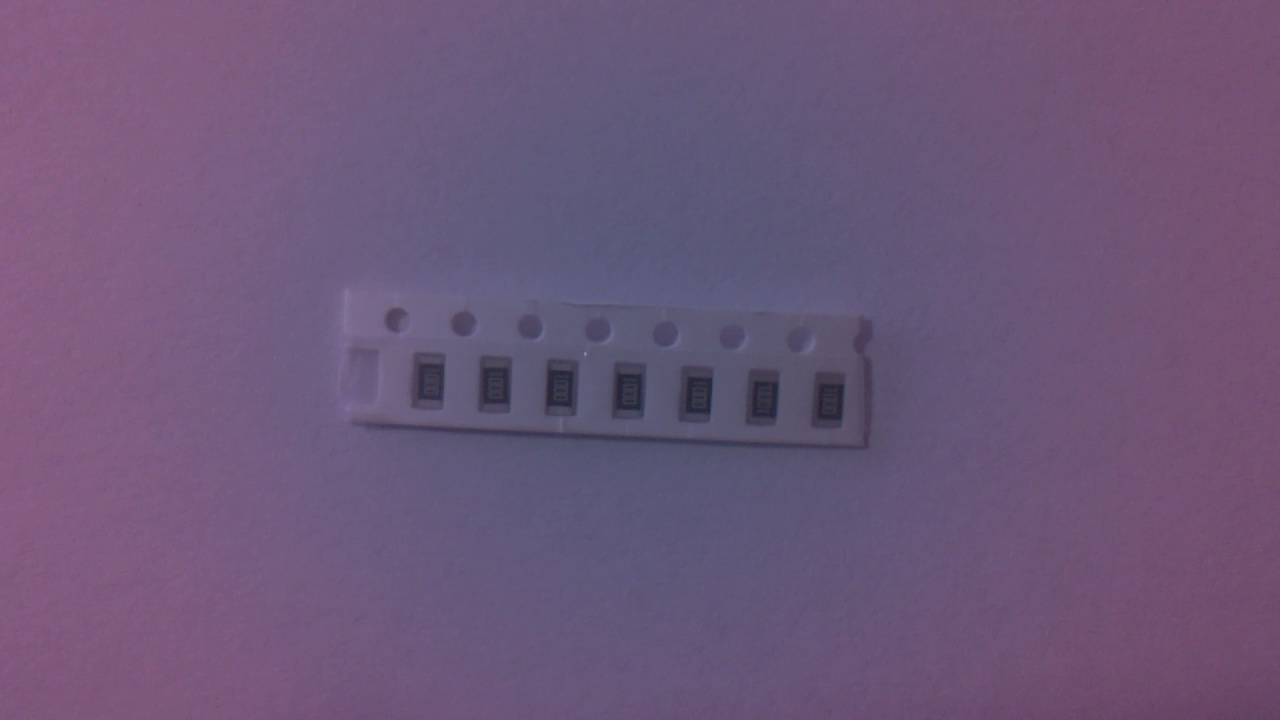Resistor: (616, 362, 654, 425), (483, 357, 519, 418), (686, 367, 720, 429), (749, 374, 785, 430), (550, 360, 584, 419), (419, 353, 451, 414), (820, 378, 854, 435)
